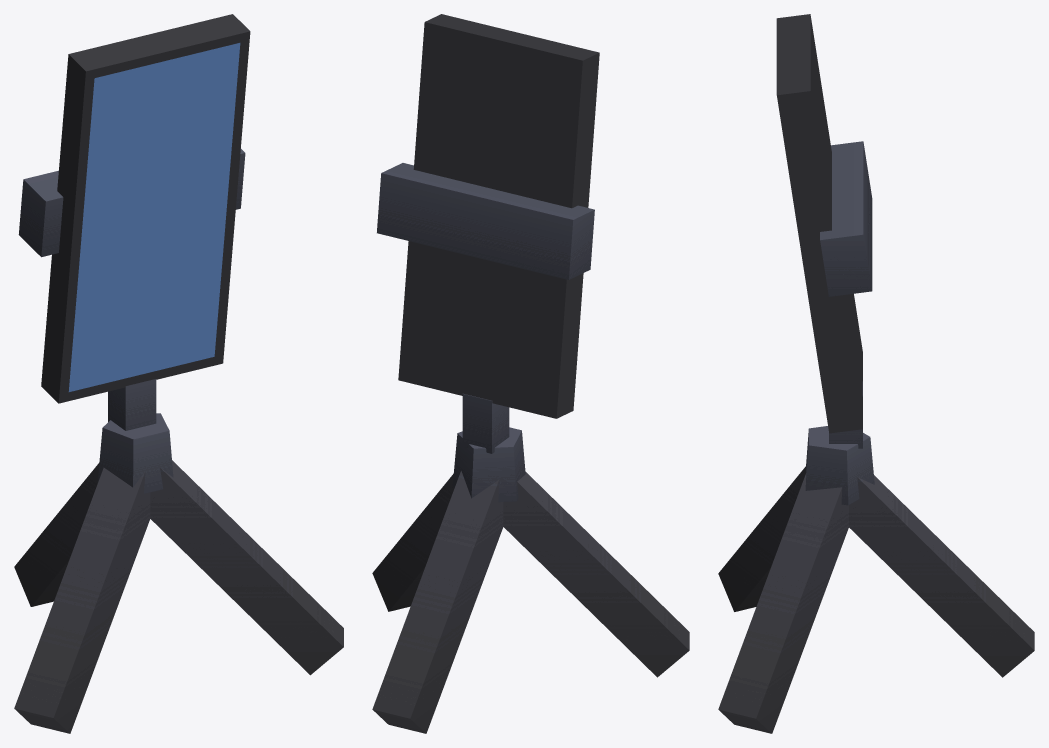
The model's file is prop-phone-tripod.glb.
3 renders of one model, left to right at view 1: azimuth 30°, elevation 25°; view 2: azimuth 150°, elevation 25°; view 3: azimuth 270°, elevation 25°, orthographic. The views are drawn at different scales.
Visible parts, largest first — view 1: propPhoneTripod; view 2: propPhoneTripod; view 3: propPhoneTripod.
Boxes of the visible parts, x1,y1,x2,y2 form: propPhoneTripod: (14, 14, 343, 733); propPhoneTripod: (372, 14, 689, 733); propPhoneTripod: (718, 14, 1034, 733).
Size of the model in its own units: 0.1503 by 0.2796 by 0.1302.
1 material, 1 textured.
